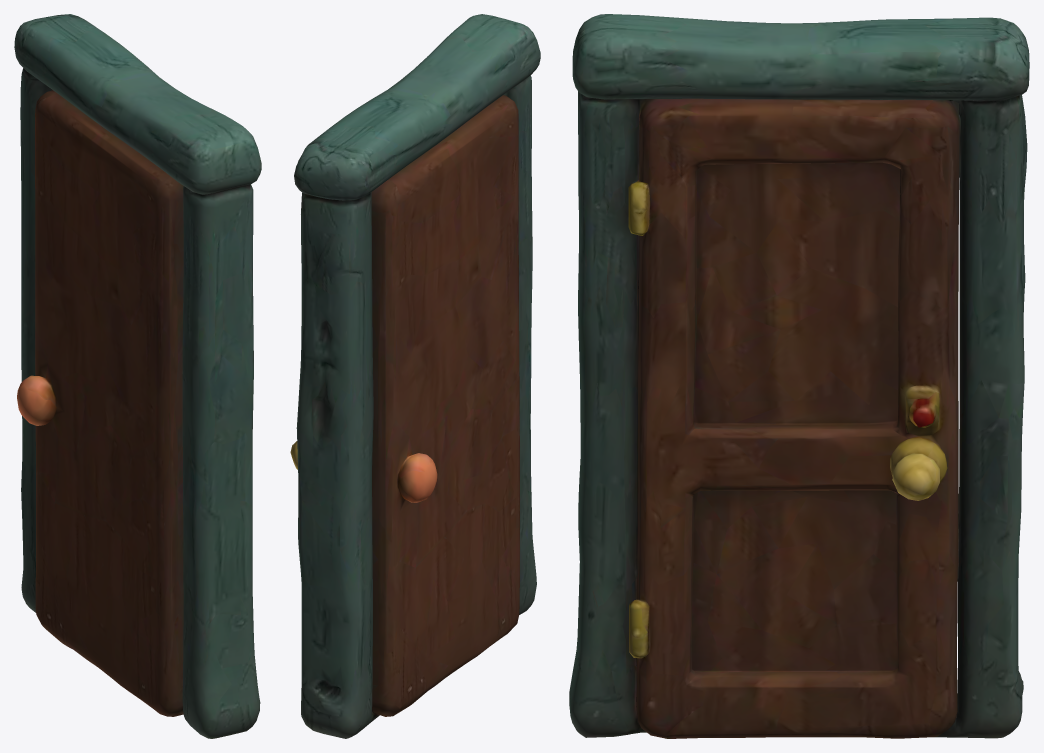
File: door.glb
3 views of the same model, side by side, from view 1: azimuth 30°, elevation 25°; view 2: azimuth 150°, elevation 25°; view 3: azimuth 270°, elevation 25° (orthographic). The views are drawn at different scales.
Parts seen in each view (by area): view 1: tripo_node_587565fe-7894-4976-82ae-809d96aff9ff; view 2: tripo_node_587565fe-7894-4976-82ae-809d96aff9ff; view 3: tripo_node_587565fe-7894-4976-82ae-809d96aff9ff.
Boxes of the visible parts, <box> form: tripo_node_587565fe-7894-4976-82ae-809d96aff9ff: <box>14,14,261,738</box>; tripo_node_587565fe-7894-4976-82ae-809d96aff9ff: <box>290,14,540,738</box>; tripo_node_587565fe-7894-4976-82ae-809d96aff9ff: <box>569,14,1029,738</box>.
Size of the model in its own units: 0.2486 by 1 by 0.5905.
Materials: 1 (1 with a texture image).
